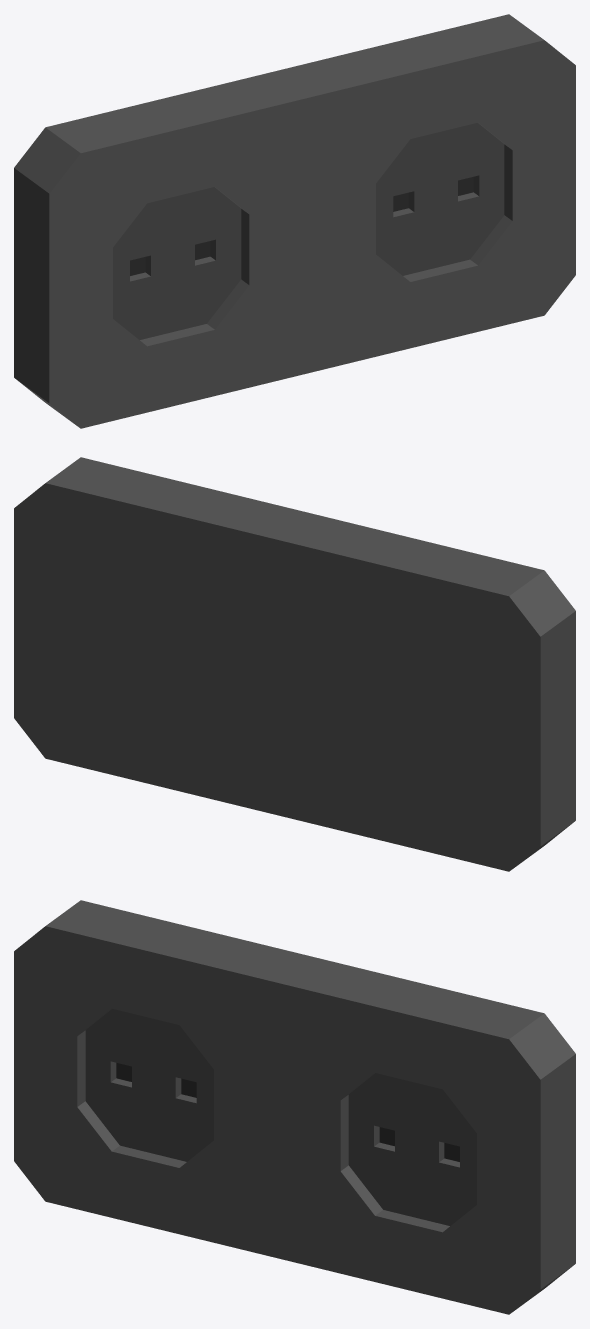
File: Socket5_C2.fbx
3 renders of one model, top to bottom at view 1: azimuth 30°, elevation 25°; view 2: azimuth 150°, elevation 25°; view 3: azimuth 330°, elevation 25°, orthographic.
Parts seen in each view (by area): view 1: Socket5_C2; view 2: Socket5_C2; view 3: Socket5_C2.
Part boxes in pixels (bbox=[...]): Socket5_C2: bbox=[14, 14, 575, 428]; Socket5_C2: bbox=[14, 457, 575, 871]; Socket5_C2: bbox=[14, 900, 575, 1314].
Bounding box in the file's own units: 16.89 × 8.44 × 1.97.
